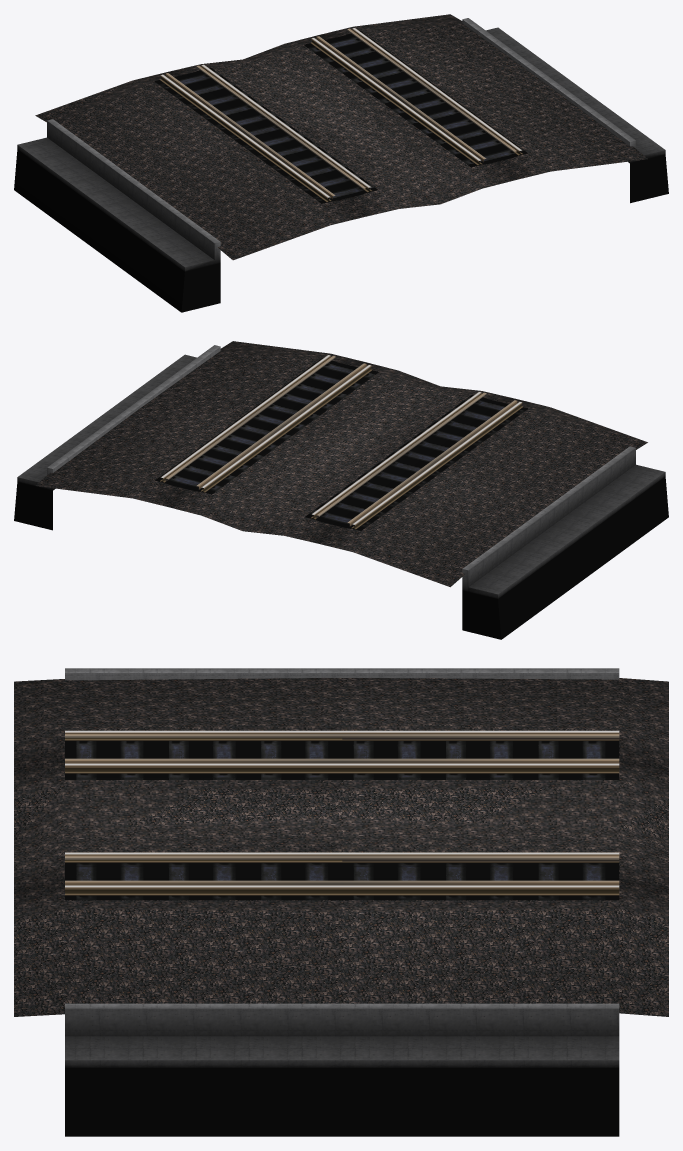
The model's file is MEI_2RAIL_25.glb.
The picture shows the model from 3 angles, top to bottom: view 1: azimuth 30°, elevation 25°; view 2: azimuth 150°, elevation 25°; view 3: azimuth 270°, elevation 25°; orthographic projection. The views are drawn at different scales.
Parts seen in each view (by area): view 1: LeftWall2, R000_RG_R2, R000_RG_L2; view 2: LeftWall2, R000_RG_R2, R000_RG_L2; view 3: LeftWall2, R000_RG_L2, R000_RG_R2.
Boxes of the visible parts, x1,y1,x2,y2 form: LeftWall2: (14,14,668,312); R000_RG_R2: (165,36,486,199); R000_RG_L2: (196,28,516,189); LeftWall2: (14,341,668,639); R000_RG_R2: (196,363,517,526); R000_RG_L2: (165,356,486,518); LeftWall2: (14,668,668,1136); R000_RG_L2: (65,758,619,885); R000_RG_R2: (65,734,619,861).
Size of the model in its own units: 42 by 6.55 by 29.53.
7 materials, 6 textured.
